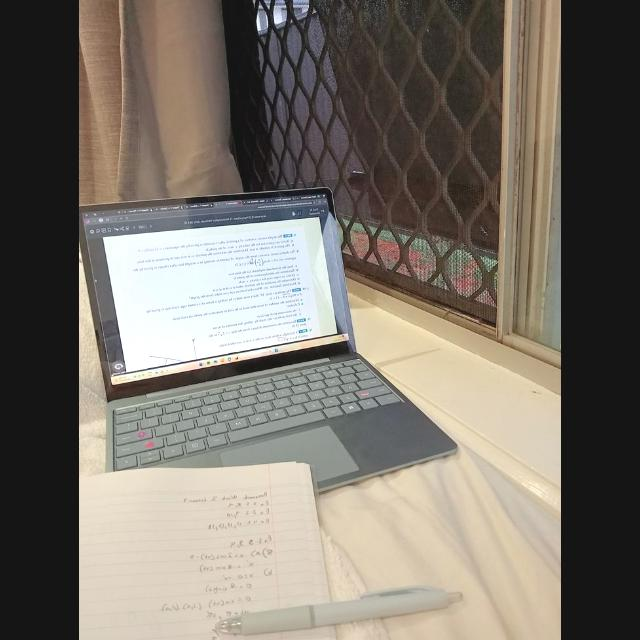laptop: (86, 180, 404, 526)
